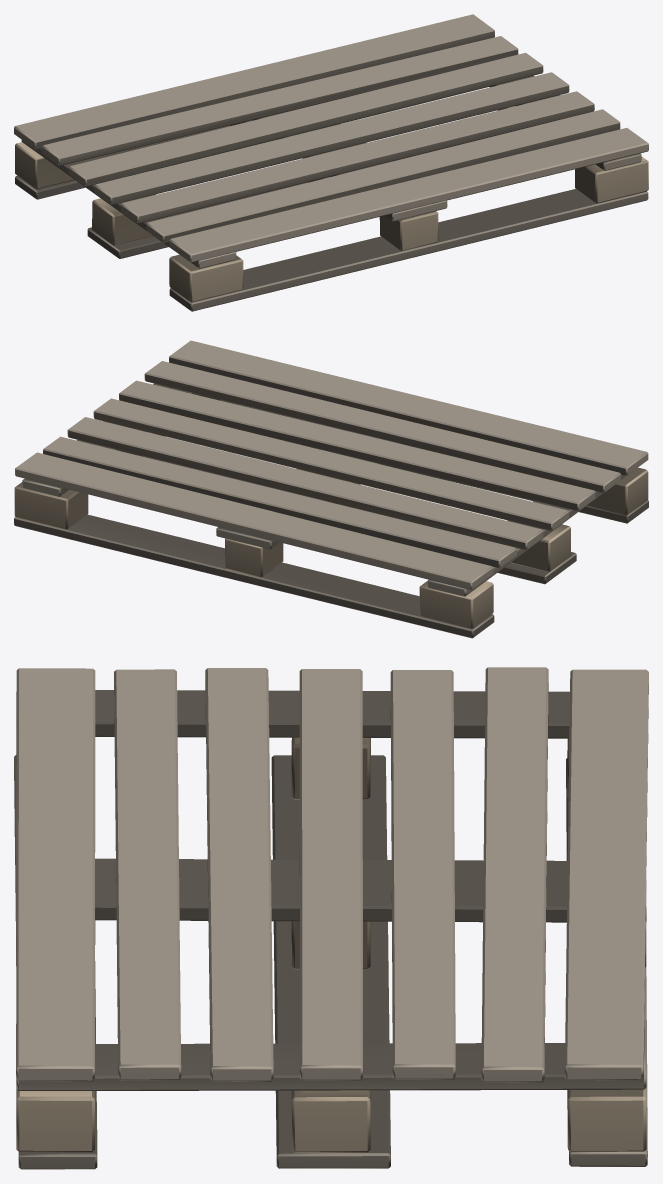
The model's file is pallet.glb.
3 views of the same model, one above another, from view 1: azimuth 30°, elevation 25°; view 2: azimuth 150°, elevation 25°; view 3: azimuth 270°, elevation 25° (orthographic). The views are drawn at different scales.
Parts seen in each view (by area): view 1: static; view 2: static; view 3: static.
Boxes of the visible parts, x1=… form: static: x1=14, y1=14, x2=648, y2=311; static: x1=14, y1=340, x2=648, y2=638; static: x1=14, y1=667, x2=648, y2=1169.
Size of the model in its own units: 1.2 by 0.1487 by 0.8064.
